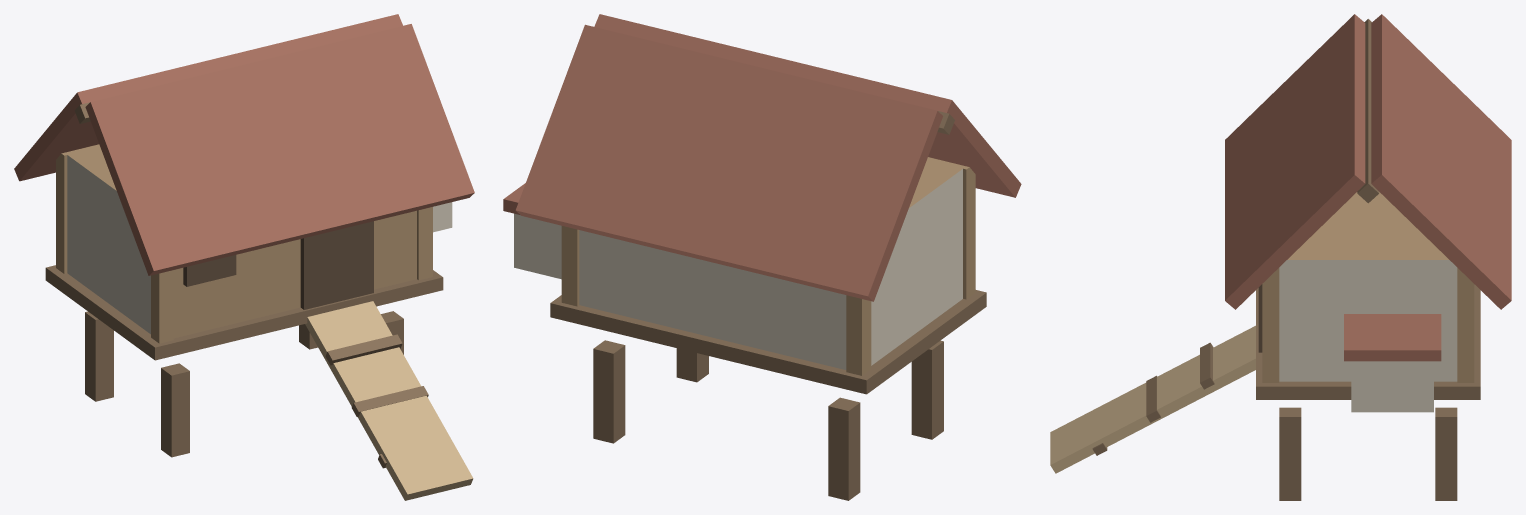
Rendered from chicken_coop.glb.
3 views of the same model, side by side, from view 1: azimuth 30°, elevation 25°; view 2: azimuth 150°, elevation 25°; view 3: azimuth 270°, elevation 25° (orthographic). The views are drawn at different scales.
Parts seen in each view (by area): view 1: chicken_coop; view 2: chicken_coop; view 3: chicken_coop.
Part boxes in pixels (x1,y1,x2,y2): chicken_coop: (14, 14, 474, 500); chicken_coop: (503, 14, 1021, 500); chicken_coop: (1050, 14, 1511, 500).
Size of the model in its own units: 1.8 by 1.58 by 1.89.
